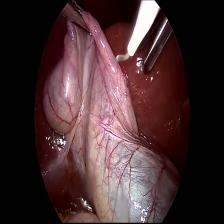Grasper: (139, 11, 174, 76)
Hook: (112, 0, 161, 71)
